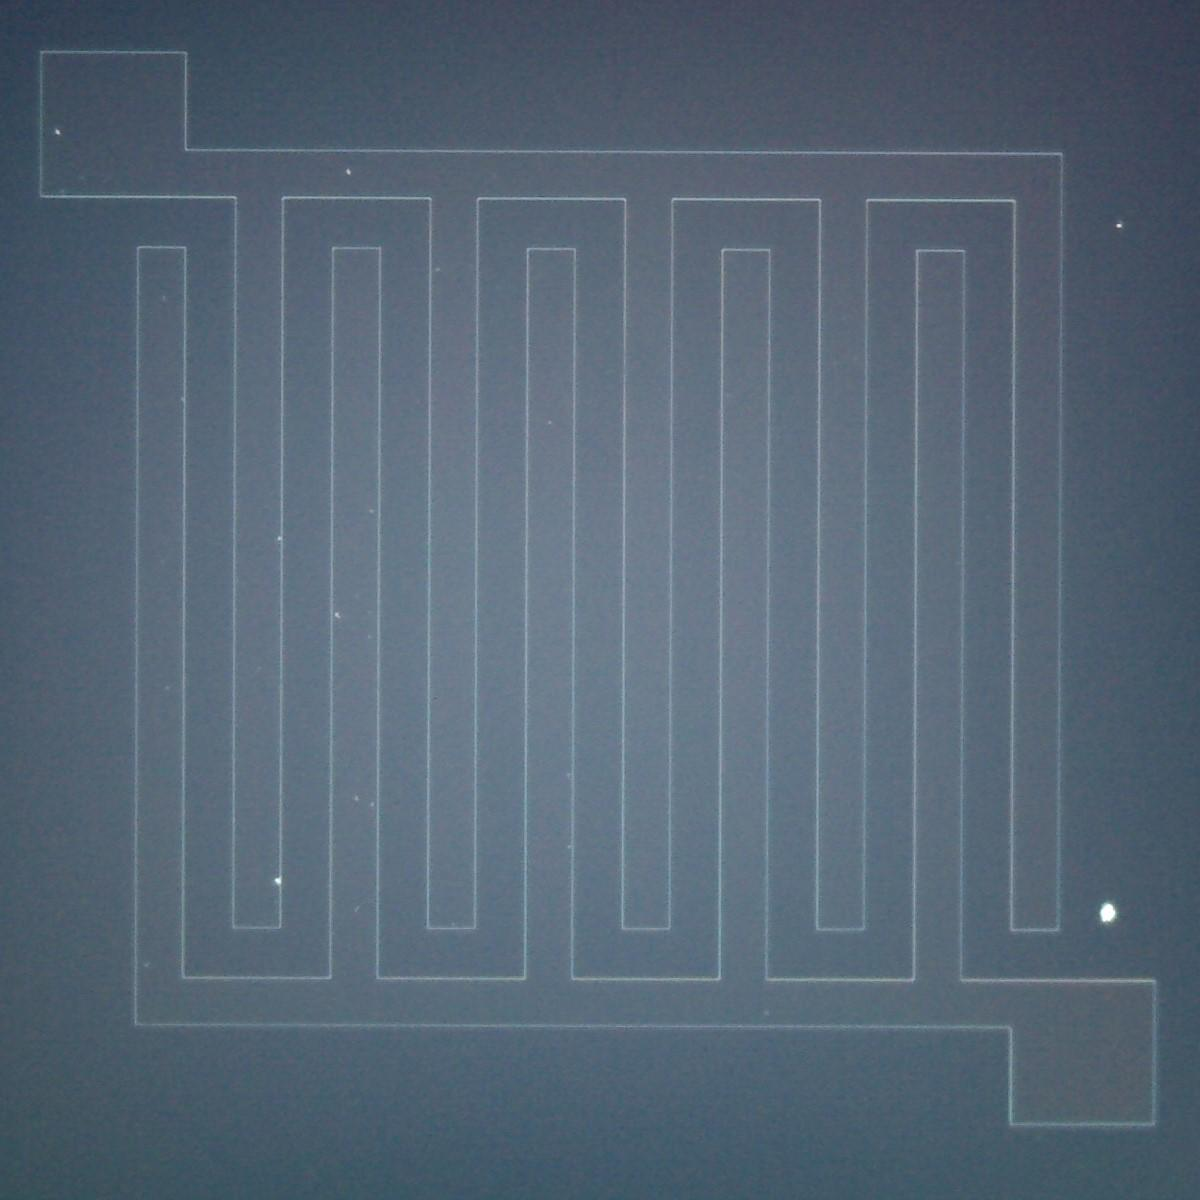B_point: (1092, 899, 1120, 926), (271, 874, 285, 890)
s_point: (51, 124, 67, 141), (1110, 218, 1126, 234), (365, 501, 378, 519), (270, 531, 285, 546), (341, 166, 356, 179), (331, 608, 344, 623), (349, 903, 363, 919), (158, 292, 173, 305), (431, 264, 445, 277), (176, 393, 190, 407), (563, 767, 575, 782), (351, 791, 363, 805), (760, 1005, 773, 1020), (446, 919, 459, 931), (544, 415, 556, 429), (367, 798, 379, 810), (364, 632, 376, 644), (162, 682, 174, 693), (564, 842, 575, 853), (141, 960, 153, 970), (365, 608, 375, 619), (255, 664, 265, 675)
